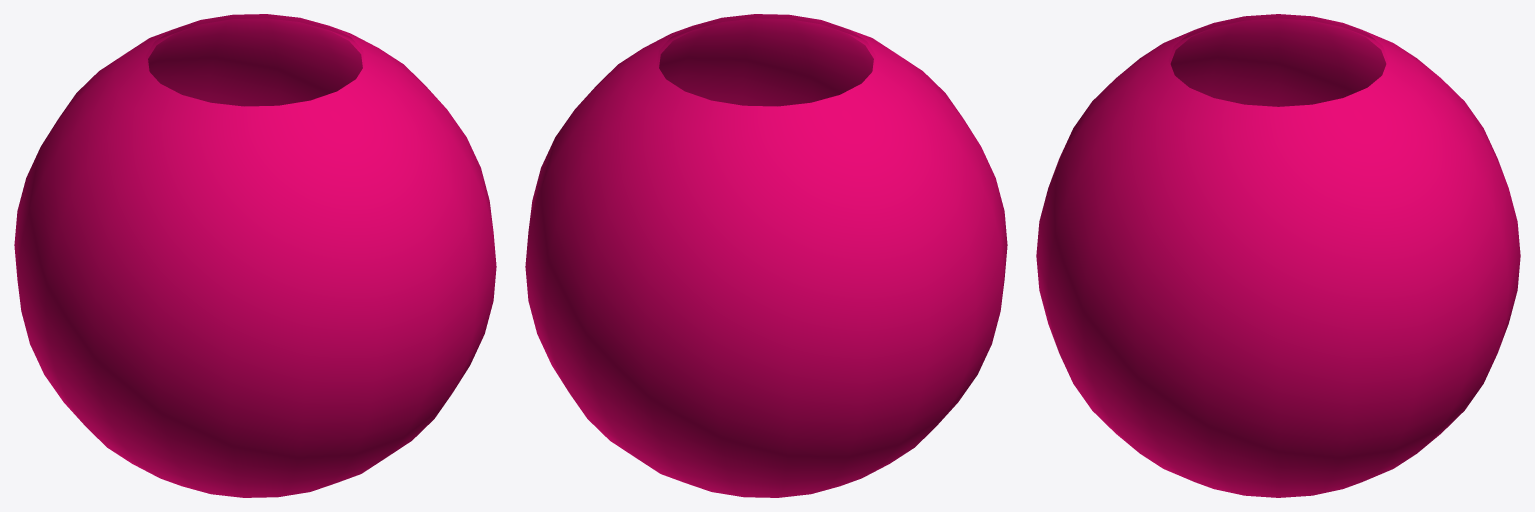
File: Lampshade_01_AutoIllum.fbx
3 renders of one model, left to right at view 1: azimuth 30°, elevation 25°; view 2: azimuth 150°, elevation 25°; view 3: azimuth 270°, elevation 25°, orthographic.
Parts seen in each view (by area): view 1: Lampshade_01_AutoIllum; view 2: Lampshade_01_AutoIllum; view 3: Lampshade_01_AutoIllum.
Part boxes in pixels (<box>): Lampshade_01_AutoIllum: <box>14,14,496,497</box>; Lampshade_01_AutoIllum: <box>525,14,1007,497</box>; Lampshade_01_AutoIllum: <box>1036,14,1520,497</box>.
Size of the model in its own units: 57.78 by 51.48 by 57.78.
